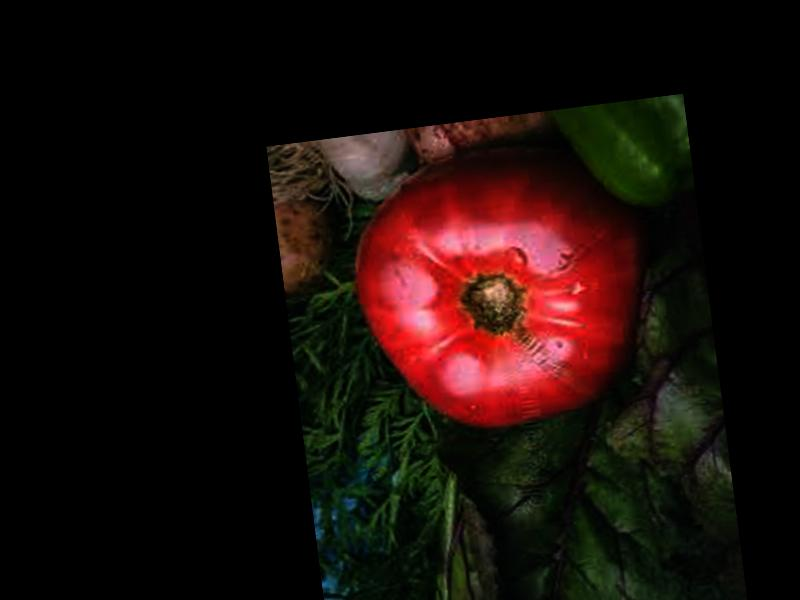Tomato: (340, 126, 669, 442)
